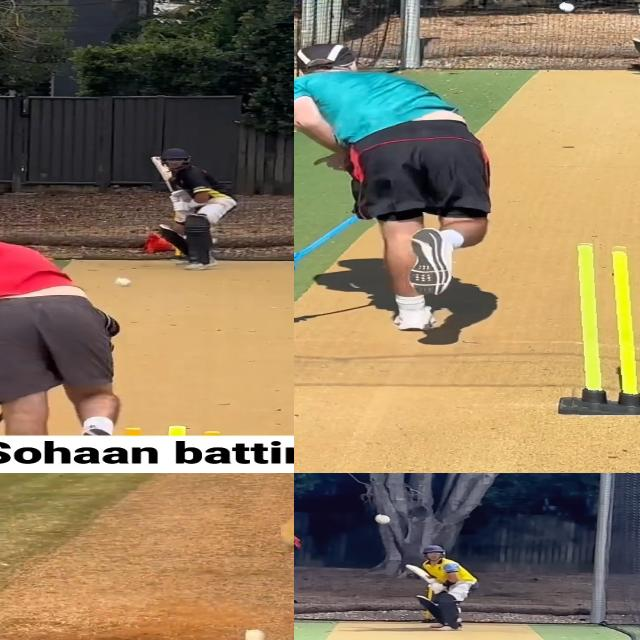Cricket ball: (558, 1, 578, 13), (373, 512, 392, 524), (114, 276, 132, 288)
Stumps: (561, 241, 640, 415)
